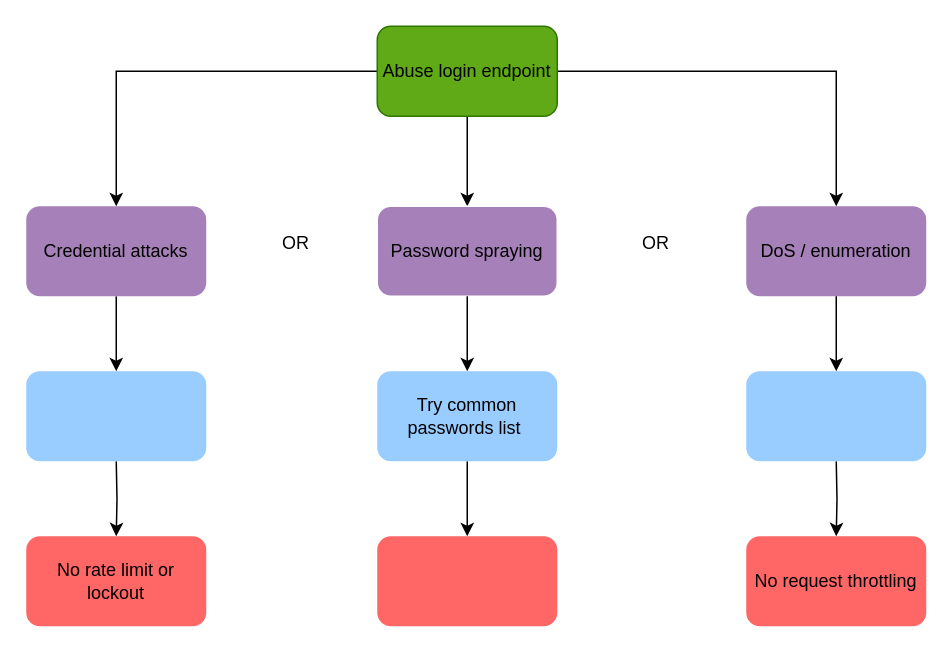
Image size: 951x653. Some labels were removed from this diagram. Each missing label, with the centre of its shape:
"Automate login attempts" goes at pixel 116 415.
"Flood login endpoint" goes at pixel 836 415.
"No multi-factor authentication" goes at pixel 466 581.
